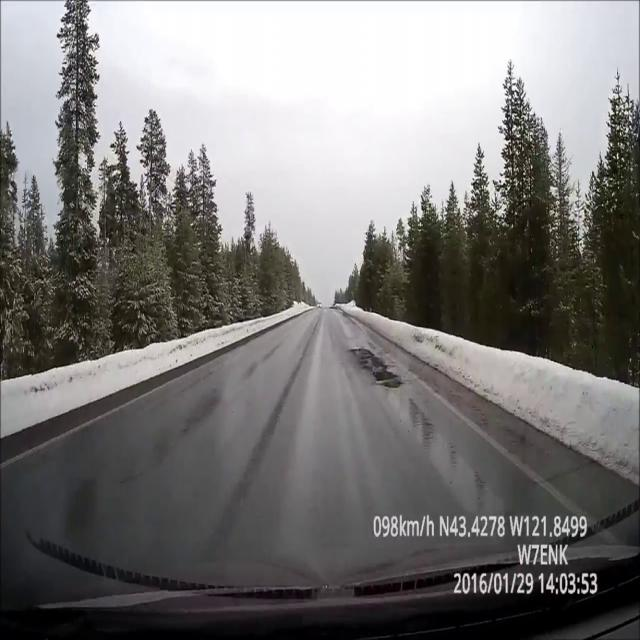Pothole: (349, 346, 404, 389)
